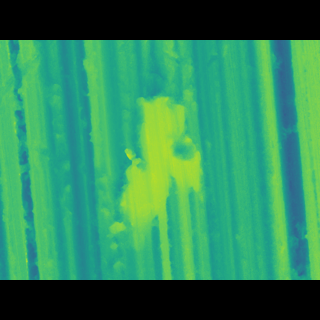Loch: (88, 103, 210, 240)
